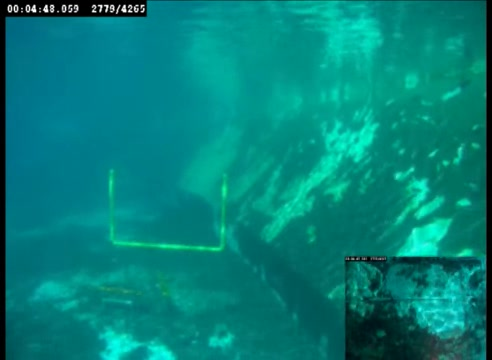channel: (107, 168, 229, 254)
